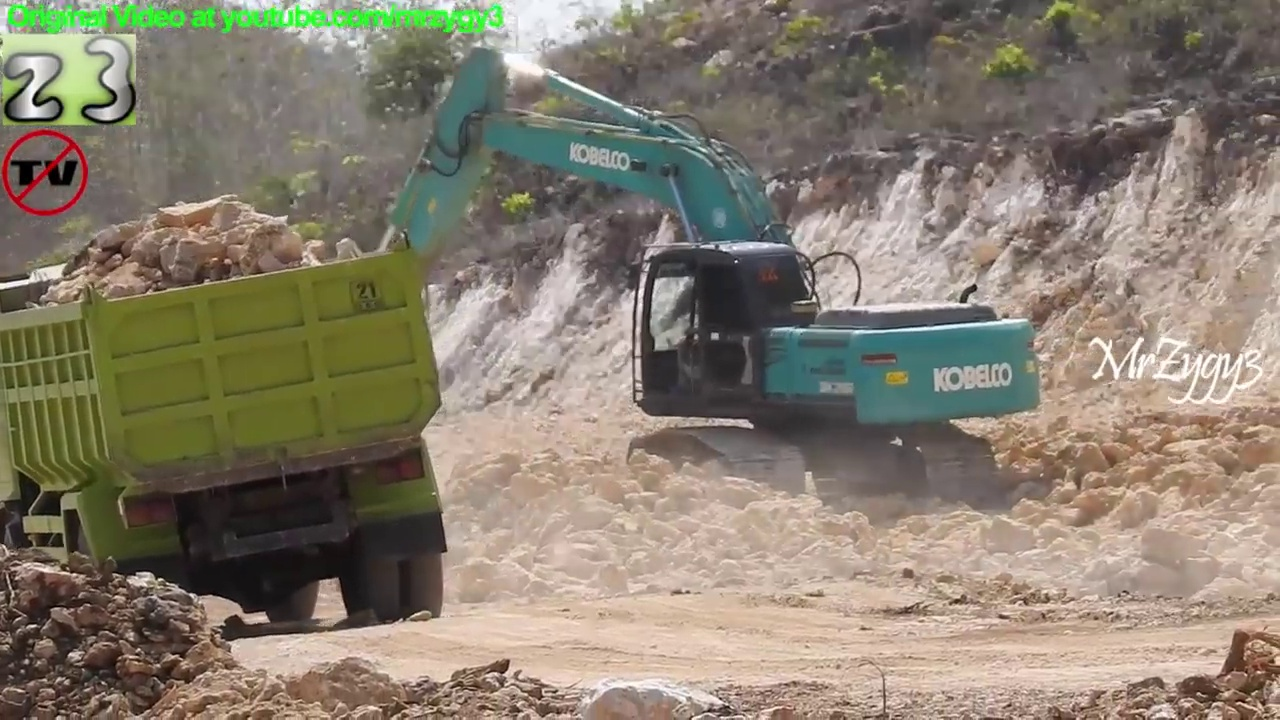excavator: (323, 43, 1051, 519)
truck: (1, 189, 457, 654)
